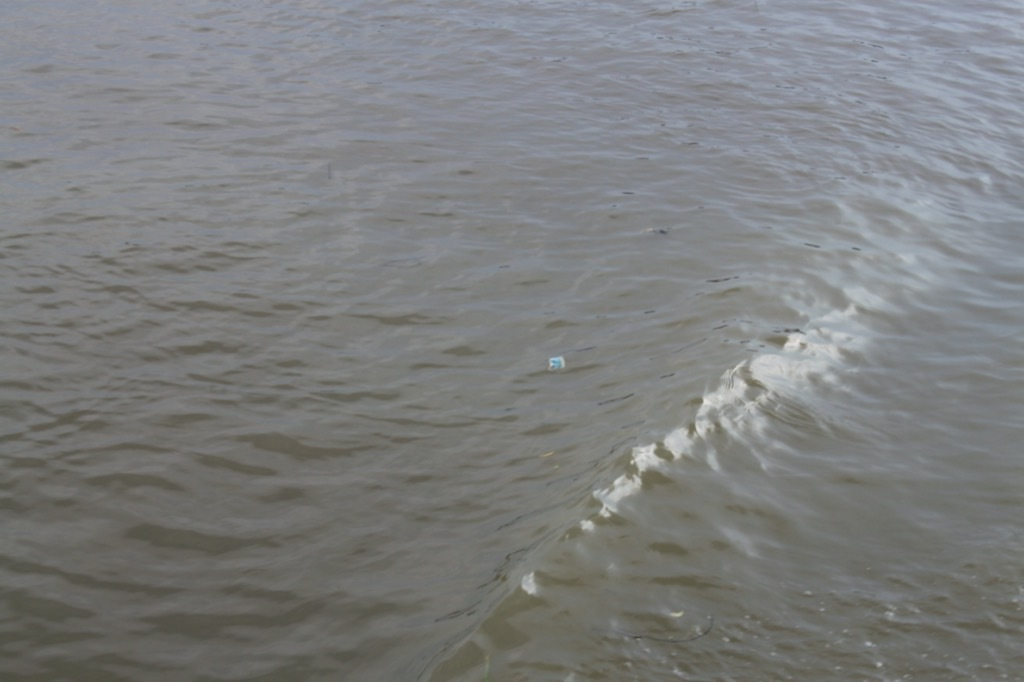organic: (612, 598, 731, 657)
plastic: (542, 349, 572, 380)
